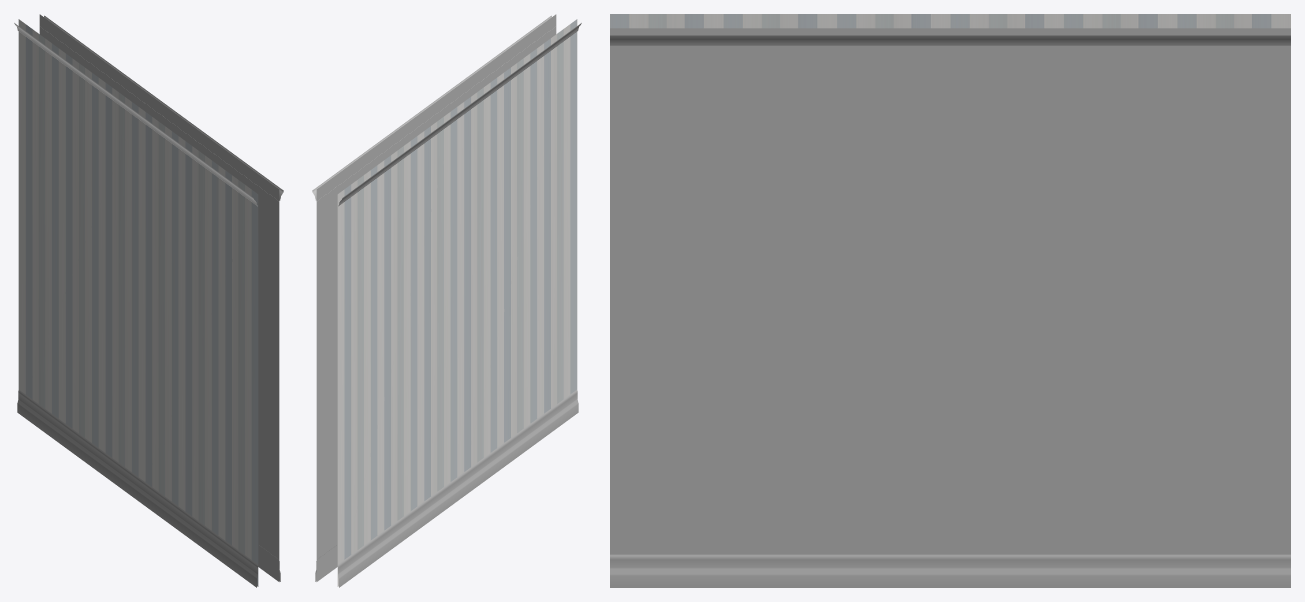
Rendered from Wall_A_Inside_400.fbx.
3 renders of one model, left to right at view 1: azimuth 30°, elevation 25°; view 2: azimuth 150°, elevation 25°; view 3: azimuth 270°, elevation 25°, orthographic. The views are drawn at different scales.
Parts seen in each view (by area): view 1: Wall_A_Inside_400; view 2: Wall_A_Inside_400; view 3: Wall_A_Inside_400.
Boxes of the visible parts, <box> form: Wall_A_Inside_400: <box>14,14,283,587</box>; Wall_A_Inside_400: <box>312,14,581,587</box>; Wall_A_Inside_400: <box>610,14,1290,587</box>.
Bounding box in the file's own units: 20.33 × 253 × 280.
